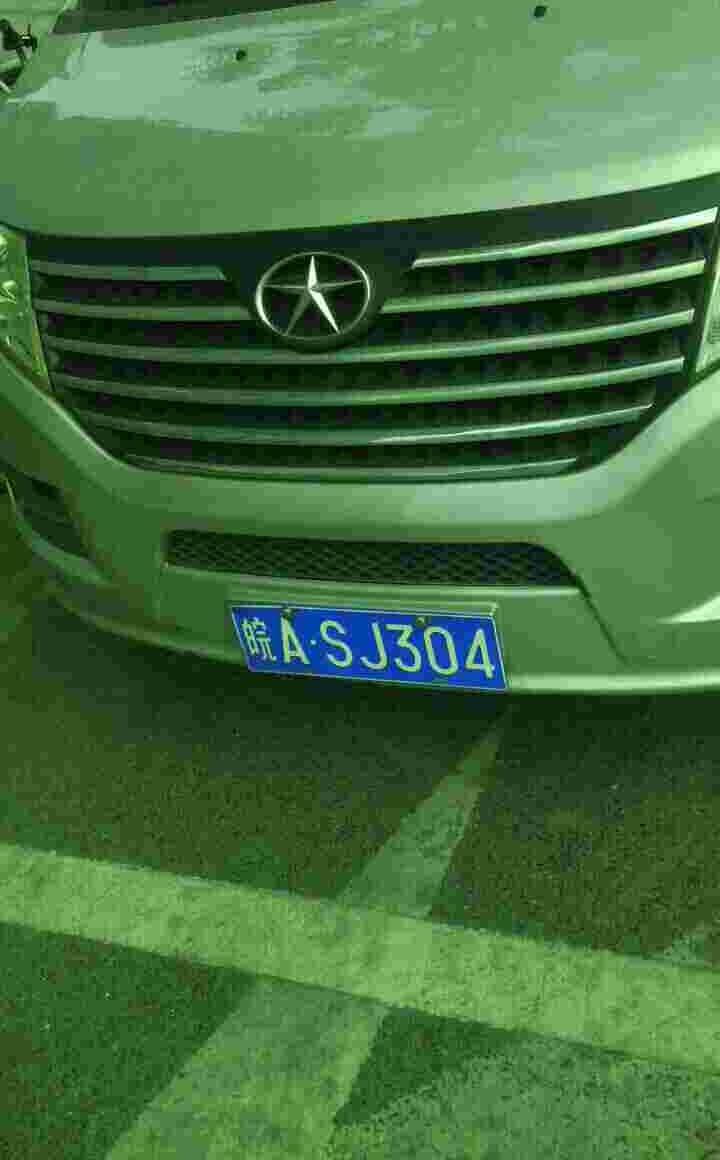license_plate: (232, 606, 514, 680)
